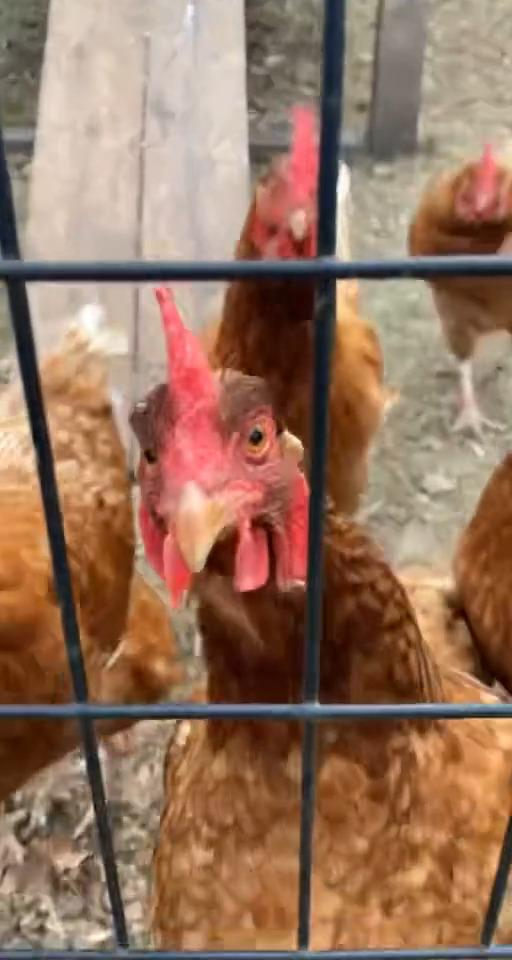rooster: (131, 286, 511, 957), (0, 304, 182, 808), (189, 103, 385, 520), (405, 137, 511, 442), (449, 446, 511, 696)
